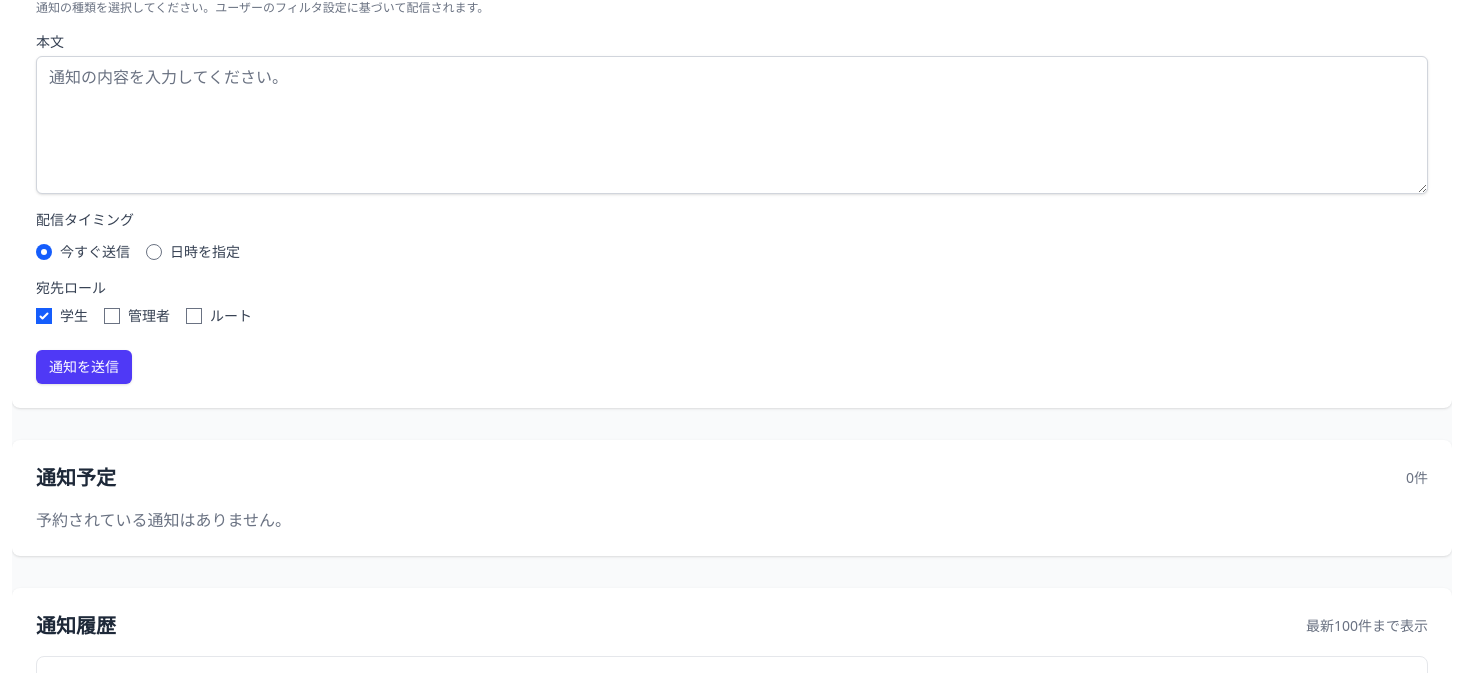
Test: Notification Management Page › タイトルと本文が空のときは送信せずエラーを表示する
(page scrolled)
Click the button "通知を送信" at {"x": 84, "y": 367}, box [36,350,132,384]
(page scrolled)
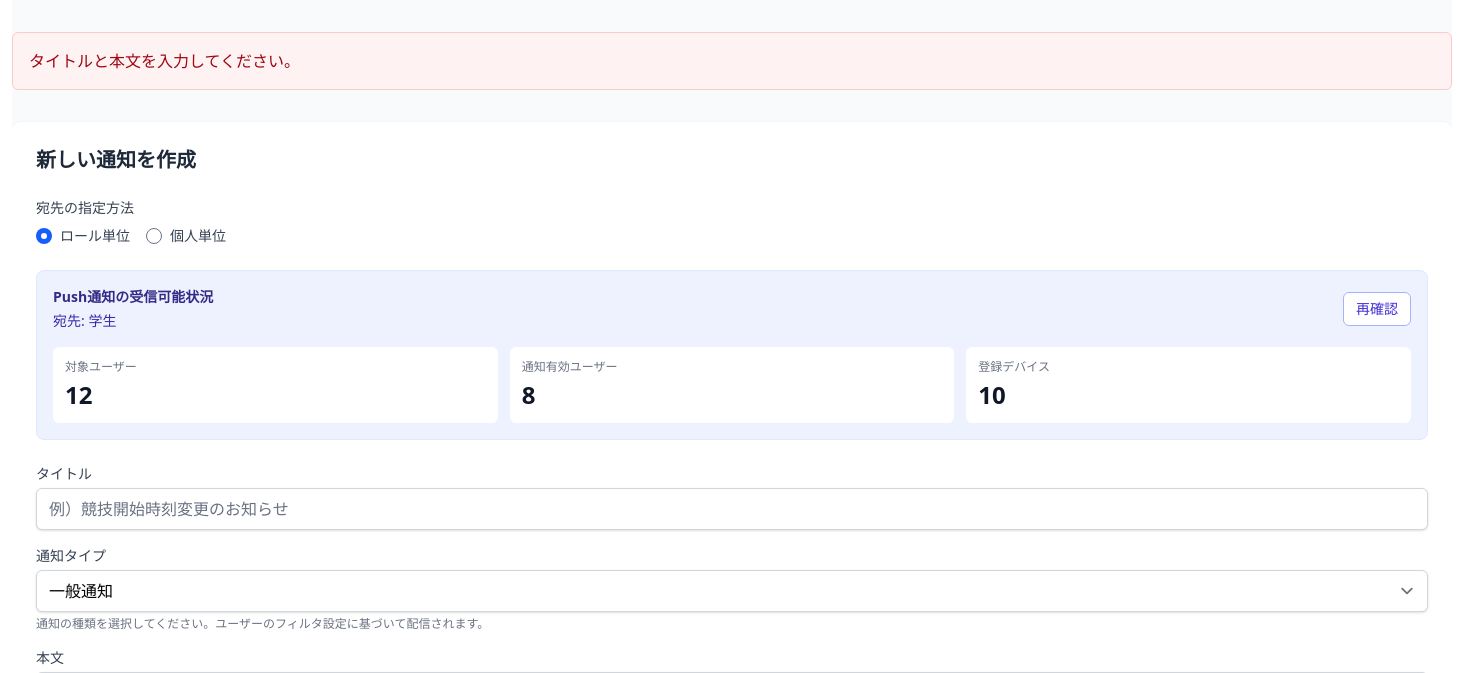
Expected: the text "タイトルと本文を入力してください。" is shown, [12,32,1452,90]
